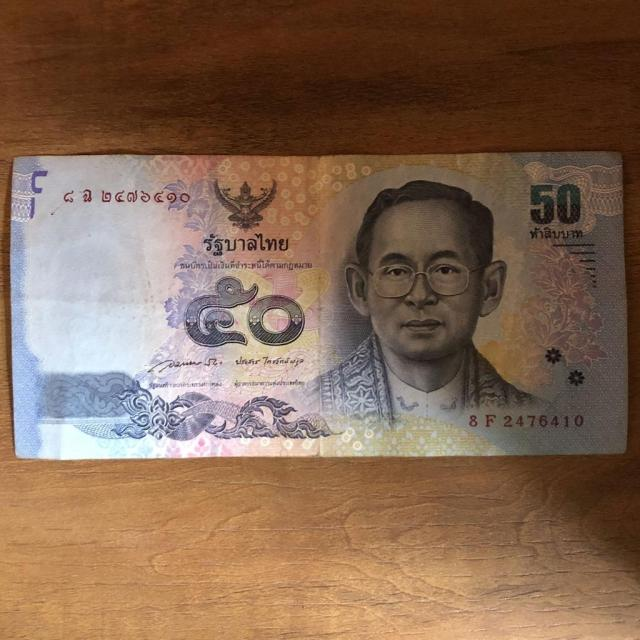THAI50: (11, 152, 627, 459)
